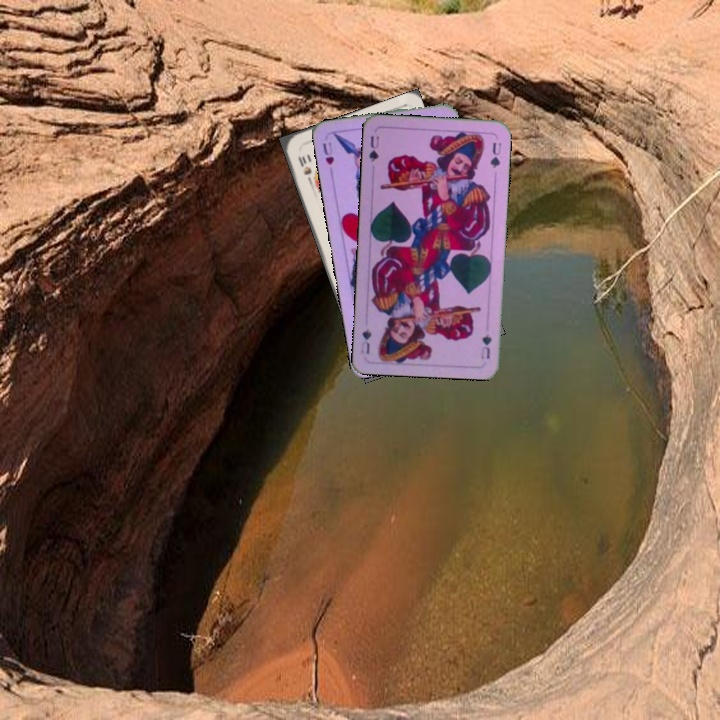GU: (365, 132, 382, 164), (477, 329, 494, 361)
HU: (319, 138, 337, 176)
S10: (294, 152, 315, 186)
